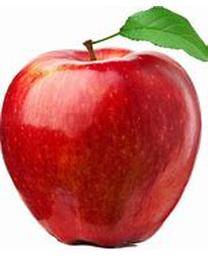apple: (0, 6, 204, 246)
